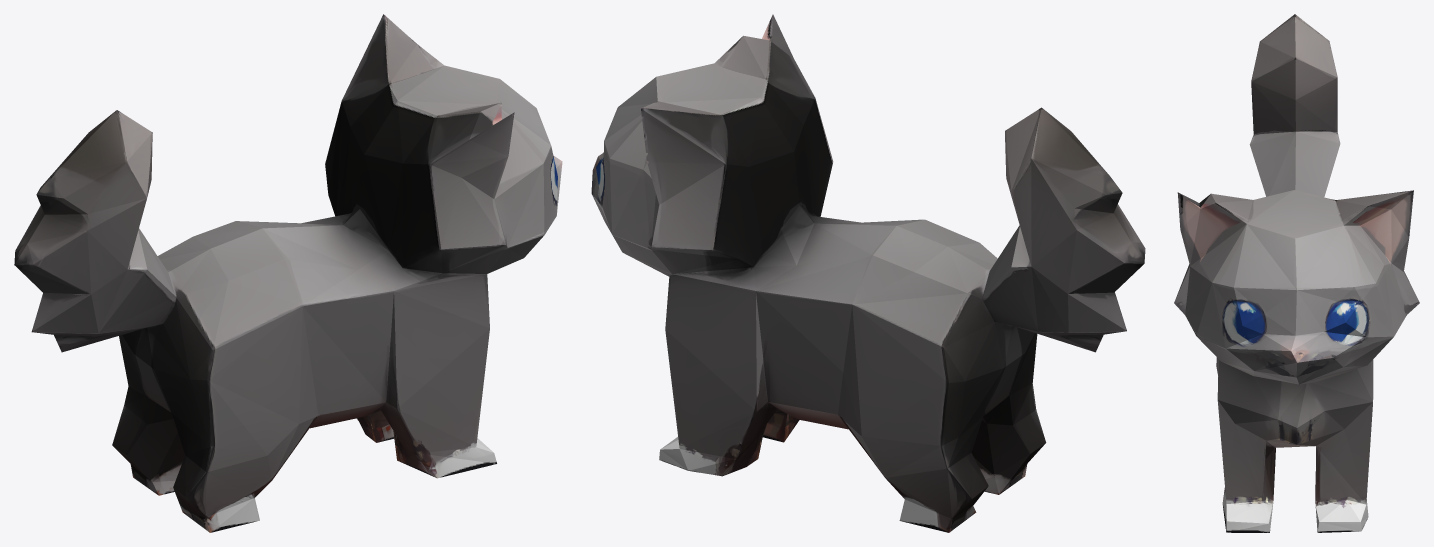
3 views of the same model, side by side, from view 1: azimuth 30°, elevation 25°; view 2: azimuth 150°, elevation 25°; view 3: azimuth 270°, elevation 25° (orthographic). The views are drawn at different scales.
Parts seen in each view (by area): view 1: Figure; view 2: Figure; view 3: Figure.
Boxes of the visible parts, x1,y1,x2,y2 form: Figure: [14, 14, 562, 532]; Figure: [591, 14, 1145, 532]; Figure: [1174, 14, 1419, 532].
Size of the model in its own units: 0.5821 by 0.4159 by 0.2515.
Materials: 1 (1 with a texture image).
